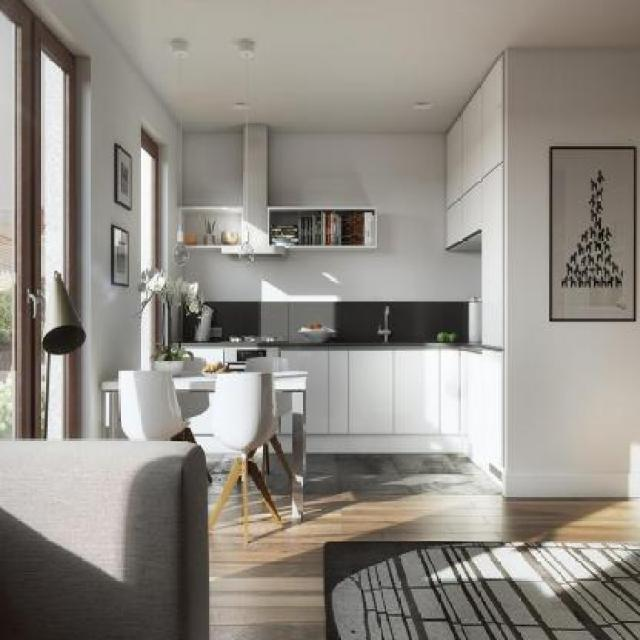Floor: (208, 453, 640, 639), (205, 453, 242, 522), (284, 453, 293, 474), (254, 454, 262, 474)
